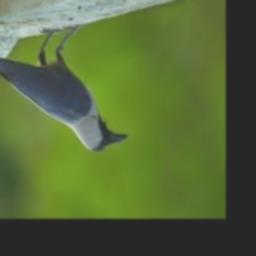Crow: (0, 27, 129, 151)
